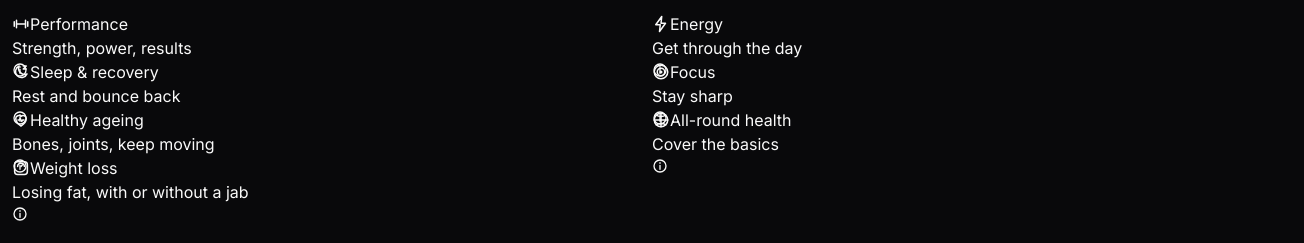
Test: C2 goal tiles › stops at three, and says how to swap
The width and height of the screenshot is (1304, 243).
Click the button "Energy Get through the day".
click(696, 24)  # box 652,12 -> 1292,60
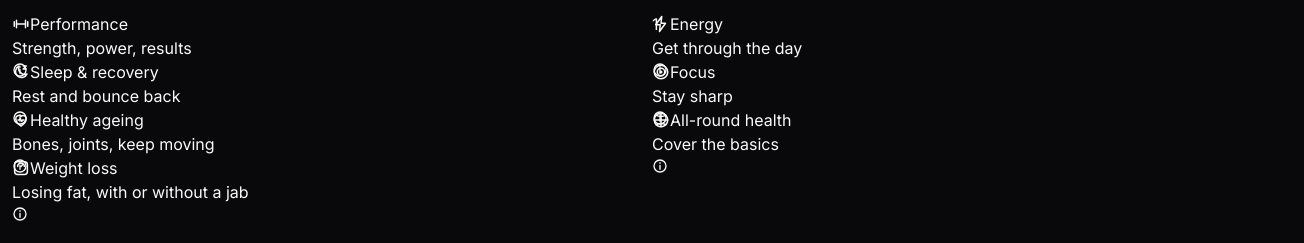
Click the button "Focus Stay sharp".
click(693, 72)  # box 652,60 -> 1292,108
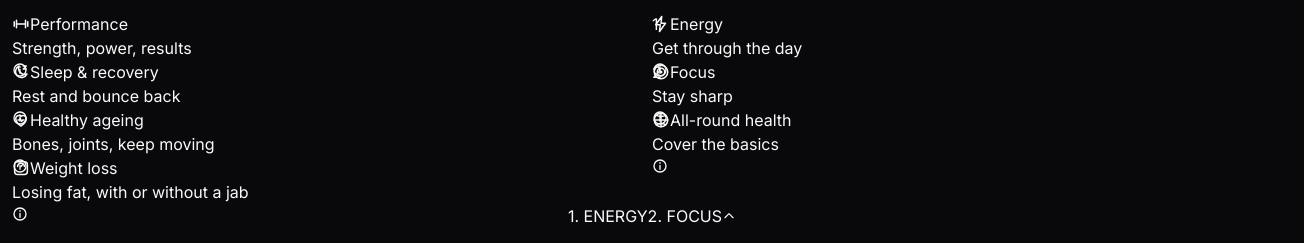
Click the button "Performance Strength, power, results".
click(79, 24)  # box 12,12 -> 652,60
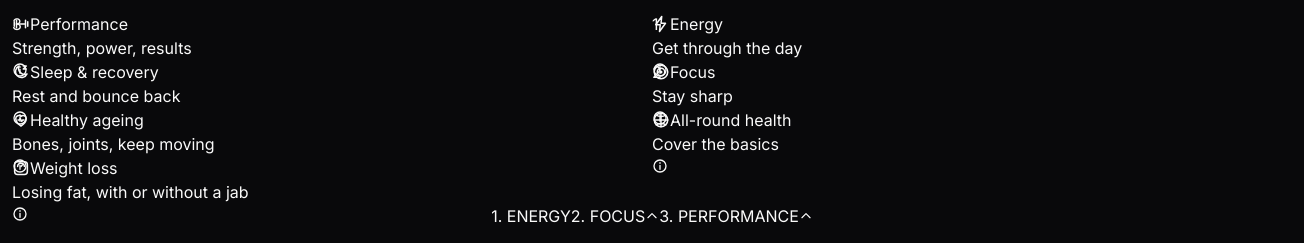
Click the button "Healthy ageing Bones, joints, keep moving".
click(87, 120)  # box 12,108 -> 652,156
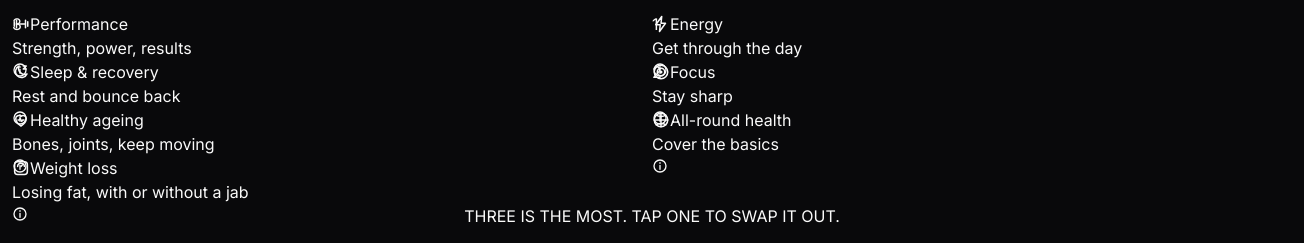
expect the text "Three is the most. Tap one to swap it out." is shown: met, box 464,206 -> 840,226
